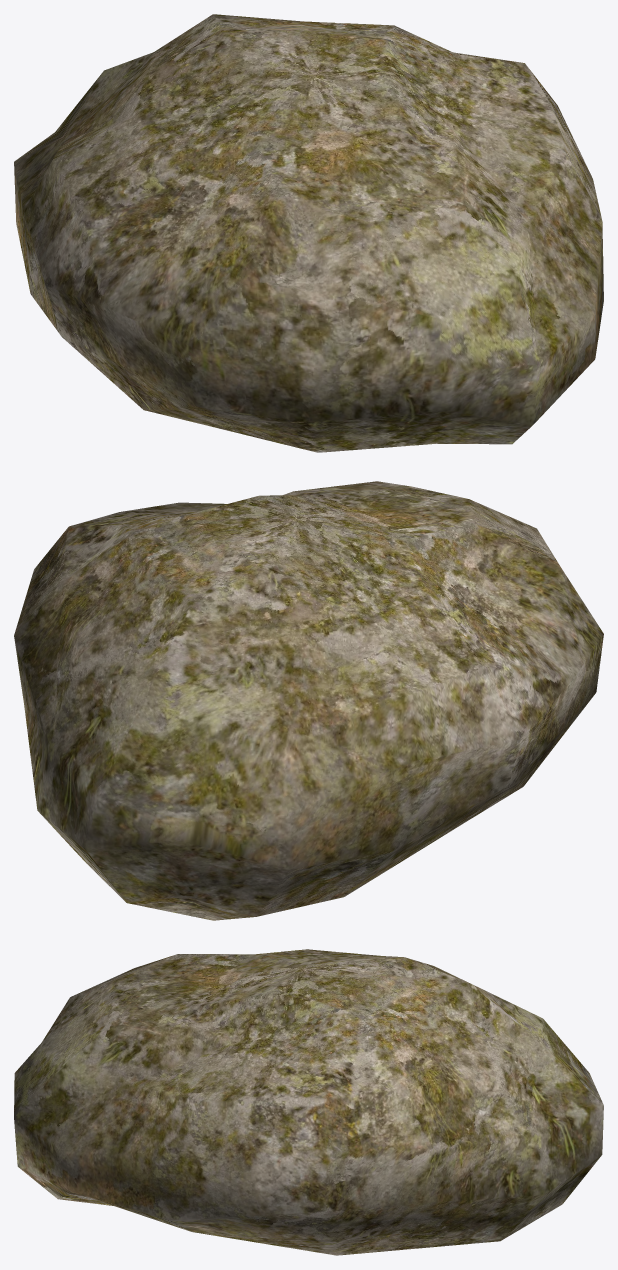
The model's file is rock.glb.
The picture shows the model from 3 angles, top to bottom: view 1: azimuth 30°, elevation 25°; view 2: azimuth 150°, elevation 25°; view 3: azimuth 270°, elevation 25°; orthographic projection. The views are drawn at different scales.
Parts seen in each view (by area): view 1: Cube.001; view 2: Cube.001; view 3: Cube.001.
Boxes of the visible parts, left/top/right/bottom form: Cube.001: left=14, top=14, right=603, bottom=452; Cube.001: left=14, top=481, right=603, bottom=920; Cube.001: left=14, top=949, right=603, bottom=1255.
Bounding box in the file's own units: 464 × 287 × 572.
1 material, 1 textured.
